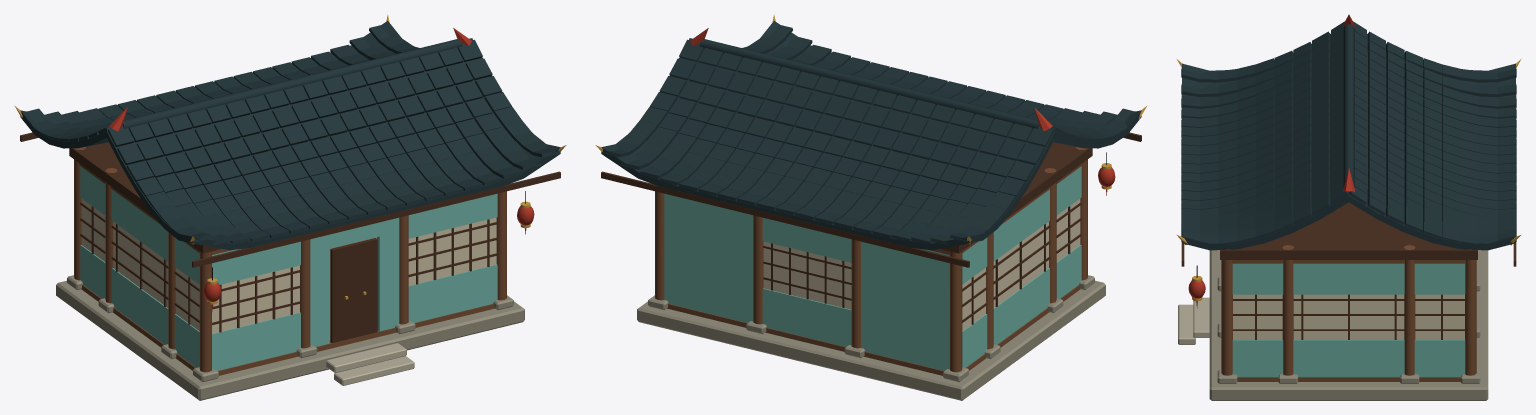
The model's file is house_teal.glb.
The picture shows the model from 3 angles, left to right: view 1: azimuth 30°, elevation 25°; view 2: azimuth 150°, elevation 25°; view 3: azimuth 270°, elevation 25°; orthographic projection. The views are drawn at different scales.
Visible parts, largest first — view 1: HouseTeal; view 2: HouseTeal; view 3: HouseTeal.
Part boxes in pixels (left/top/right/bottom): HouseTeal: left=14, top=14, right=566, bottom=400; HouseTeal: left=595, top=14, right=1147, bottom=400; HouseTeal: left=1177, top=14, right=1521, bottom=400.
Size of what is drawn, in the model's own units: 8.23 by 5.18 by 6.82.
